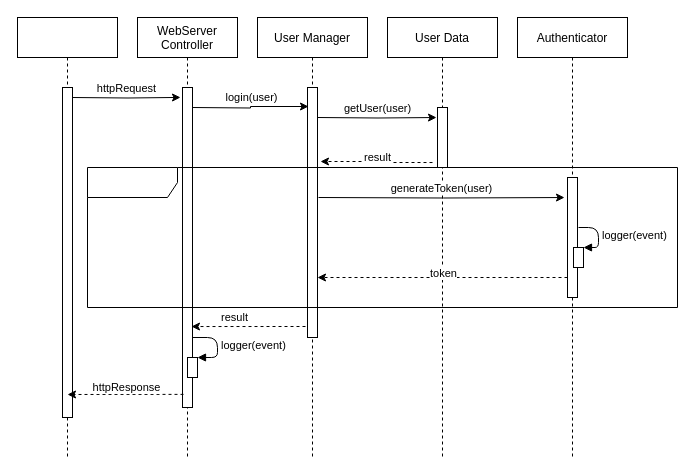
The diagram is 695 pixels wide and 475 high, and some of its shapes have lost their labels. The shapes that lost their labels are listed below. From the top down, each one's box as (x1, y1, x2, y2) in pixels, then its label:
(16, 16, 118, 458): User/Admin
(86, 166, 678, 308): Login Success
